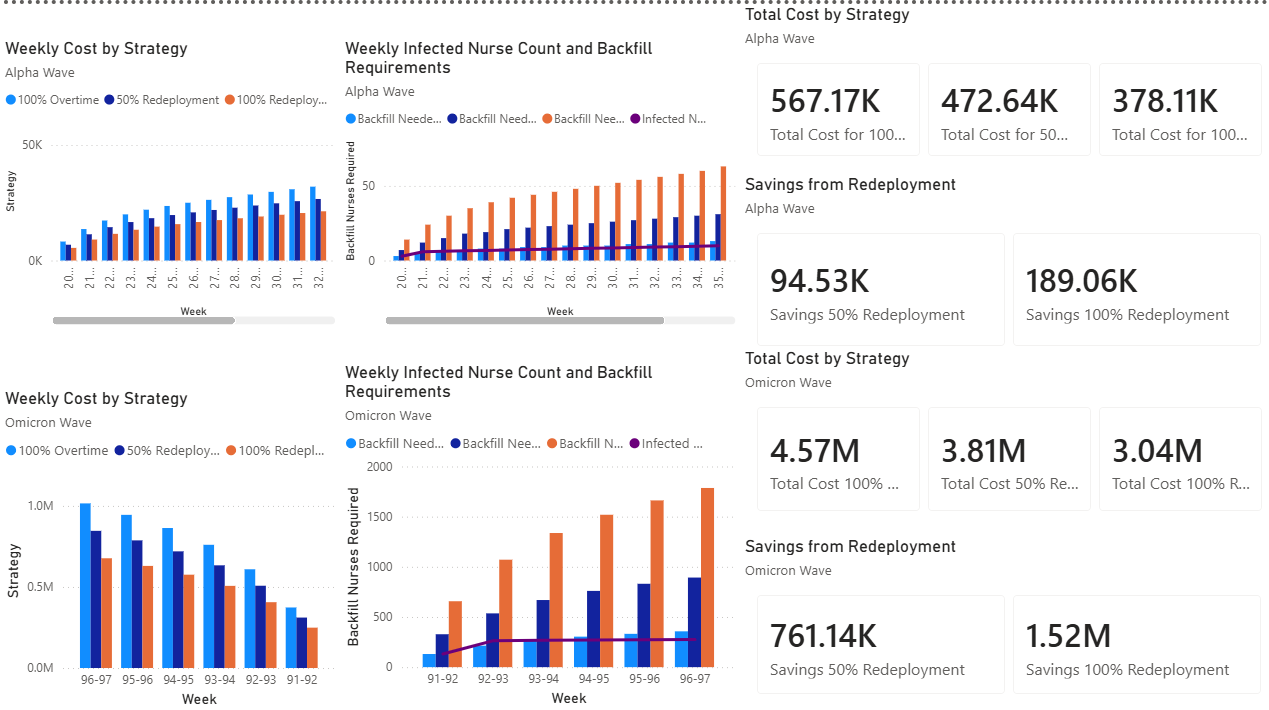

Layout of this report page (visuals, bound fields, positions):
{"tool":"powerbi","page":{"name":"Cost Analysis","canvas":[1280,720],"ordinal":2},"visuals":[{"type":"clusteredColumnChart","title":"Weekly Cost by Strategy","fields":{"Category":["weekly_costs_alpha.Week"],"Y":["Sum(weekly_costs_alpha.Cost_0)","Sum(weekly_costs_alpha.Cost_50)","Sum(weekly_costs_alpha.Cost_100)"]},"box":[0,33.5,340.1,291.5],"z":0},{"type":"clusteredColumnChart","title":"Weekly Cost by Strategy","fields":{"Category":["weekly_costs_omicron.Week"],"Y":["Sum(weekly_costs_omicron.Cost_0)","Sum(weekly_costs_omicron.Cost_50)","Sum(weekly_costs_omicron.Cost_100)"]},"box":[0,383.7,340.1,323.4],"z":1000},{"type":"lineClusteredColumnComboChart","title":"Weekly Infected Nurse Count and Backfill Requirements","fields":{"Category":["weekly_costs_alpha.Week"],"Y":["Sum(overtime_alpha.Nurses_20h)","Sum(overtime_alpha.Nurses_8h)","Sum(overtime_alpha.Nurses_4h)"],"Y2":["Sum(overtime_alpha.Infected_Nurses)"]},"box":[340.1,33.5,400.4,291.5],"z":2000},{"type":"lineClusteredColumnComboChart","title":"Weekly Infected Nurse Count and Backfill Requirements","fields":{"Category":["overtime_omicron.Week"],"Y":["Sum(overtime_omicron.Nurses_20h)","Sum(overtime_omicron.Nurses_8h)","Sum(overtime_omicron.Nurses_4h)"],"Y2":["Sum(overtime_omicron.Infected_Nurses)"]},"box":[340.1,358.5,400.4,348.5],"z":2001},{"type":"cardVisual","title":"Total Cost by Strategy","fields":{"Data":["weekly_costs_alpha.Total Cost 0%","weekly_costs_alpha.Total Cost 50%","weekly_costs_alpha.Total Cost 100%"]},"box":[740.5,0,539.5,169.2],"z":2002},{"type":"cardVisual","title":"Savings from Redeployment","fields":{"Data":["weekly_costs_alpha.Savings 50%","weekly_costs_alpha.Savings 100%"]},"box":[740.5,169.2,539.5,189.3],"z":2003},{"type":"cardVisual","title":"Total Cost by Strategy","fields":{"Data":["weekly_costs_omicron.Total Cost 100% Overtime","weekly_costs_omicron.Total Cost 50% Redeployment","weekly_costs_omicron.Total Cost 100% Redeployment"]},"box":[740.5,343.5,539.5,180.9],"z":2004},{"type":"cardVisual","title":"Savings from Redeployment","fields":{"Data":["weekly_costs_omicron.Savings 50% Redeployment","weekly_costs_omicron.Savings 100% Redeployment"]},"box":[740.5,532.8,539.5,175.9],"z":2005}]}

Visuals, with their boxes in screenshot pixels (x1, y1, x2, y2), scaled from the page's 1280x720 canvas onto the 1269x710 screenshot:
"Weekly Cost by Strategy" clusteredColumnChart: l=0, t=33, r=337, b=320
"Weekly Cost by Strategy" clusteredColumnChart: l=0, t=378, r=337, b=697
"Weekly Infected Nurse Count and Backfill Requirements" lineClusteredColumnComboChart: l=337, t=33, r=734, b=320
"Weekly Infected Nurse Count and Backfill Requirements" lineClusteredColumnComboChart: l=337, t=354, r=734, b=697
"Total Cost by Strategy" cardVisual: l=734, t=0, r=1268, b=167
"Savings from Redeployment" cardVisual: l=734, t=167, r=1268, b=354
"Total Cost by Strategy" cardVisual: l=734, t=339, r=1268, b=517
"Savings from Redeployment" cardVisual: l=734, t=525, r=1268, b=699
